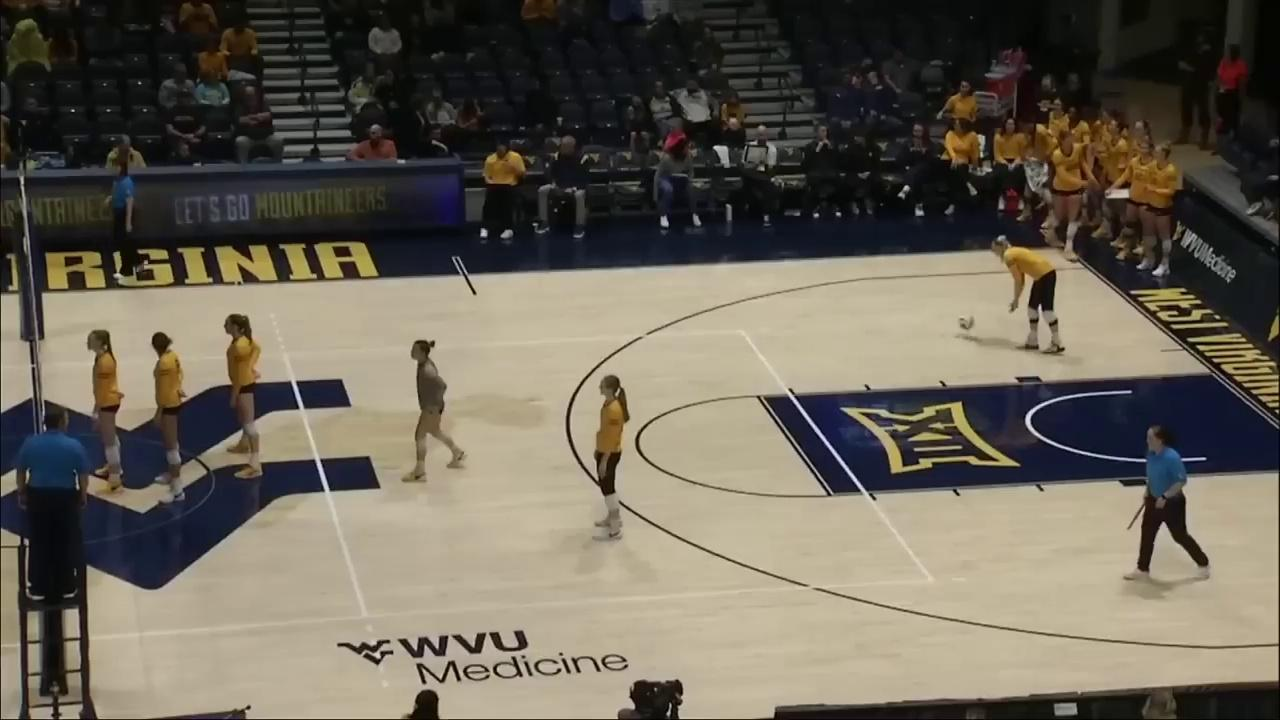player: (403, 339, 469, 482), (991, 238, 1063, 353), (145, 332, 188, 504), (222, 315, 267, 479), (86, 329, 127, 495), (593, 375, 634, 539)
refree: (16, 408, 89, 593), (1125, 425, 1210, 581), (106, 163, 146, 275)
